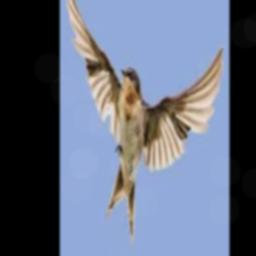Swallow: (67, 0, 224, 248)
